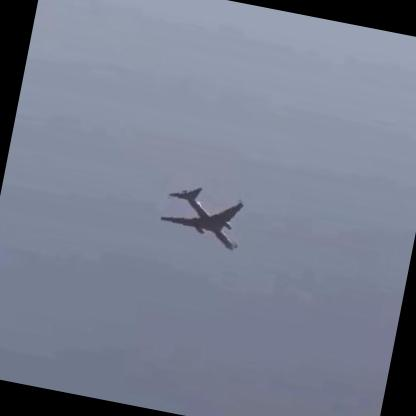plane: (157, 180, 247, 251)
